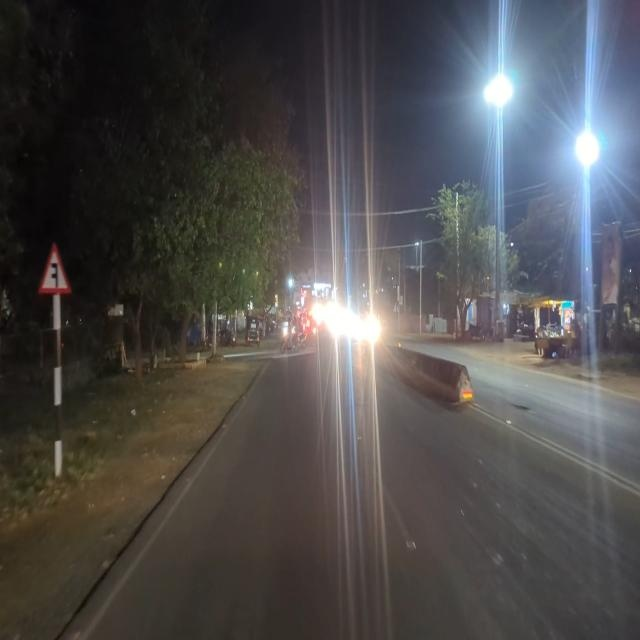bien_nguy_hiem: (38, 241, 71, 296)
